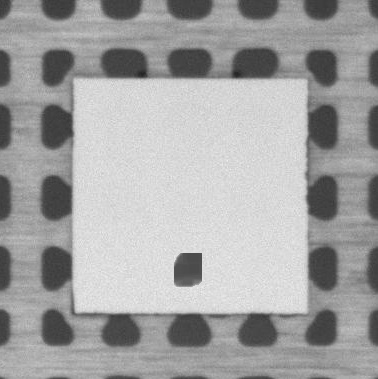DIE_INK: (174, 254, 201, 288)
